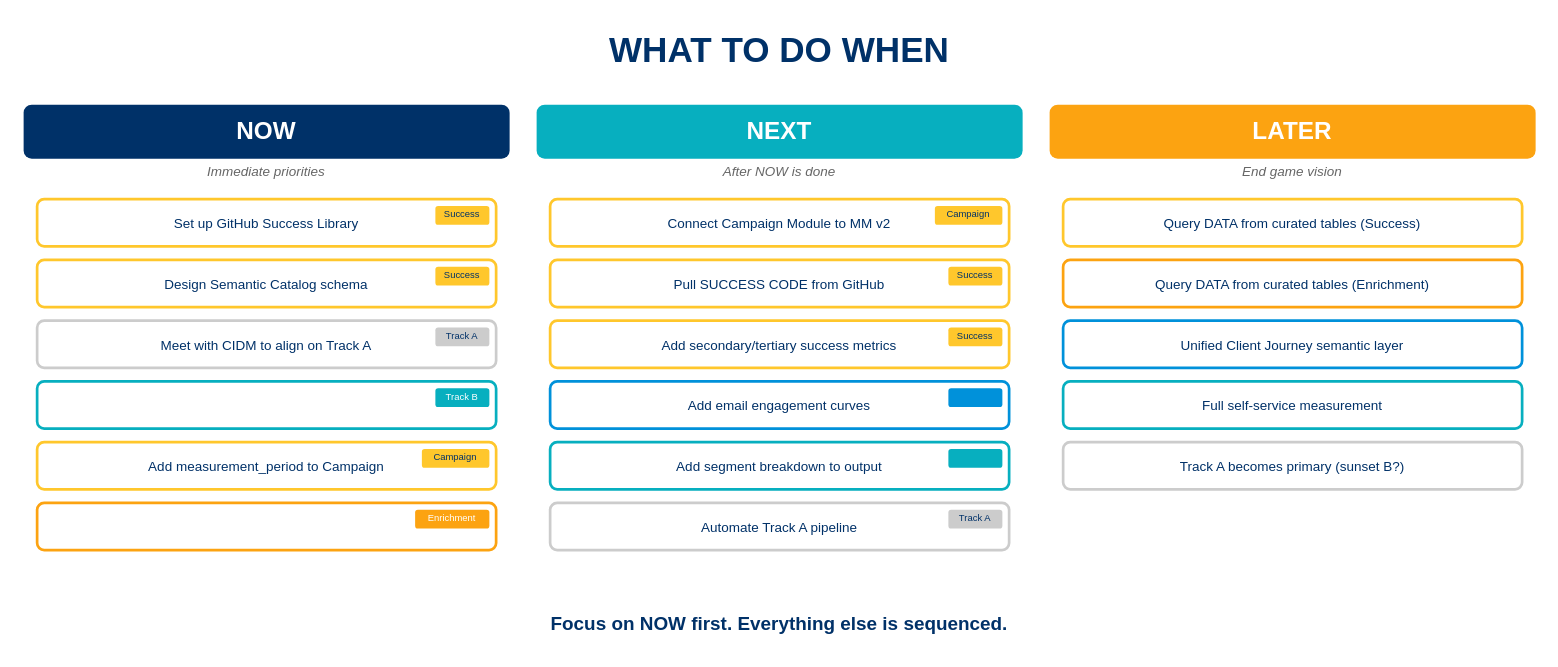
Image size: 1558x667. Some labels were removed from this diagram. The box of each missing label's shape, as (x1, y1, x2, y2) in pixels:
Build enrichment catalog: (35, 501, 497, 551)
Document Track B refresh process: (35, 379, 497, 429)
Journey: (948, 387, 1002, 406)
Output: (948, 448, 1002, 467)
